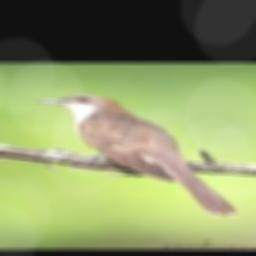Cuckoo: (35, 96, 237, 215)
